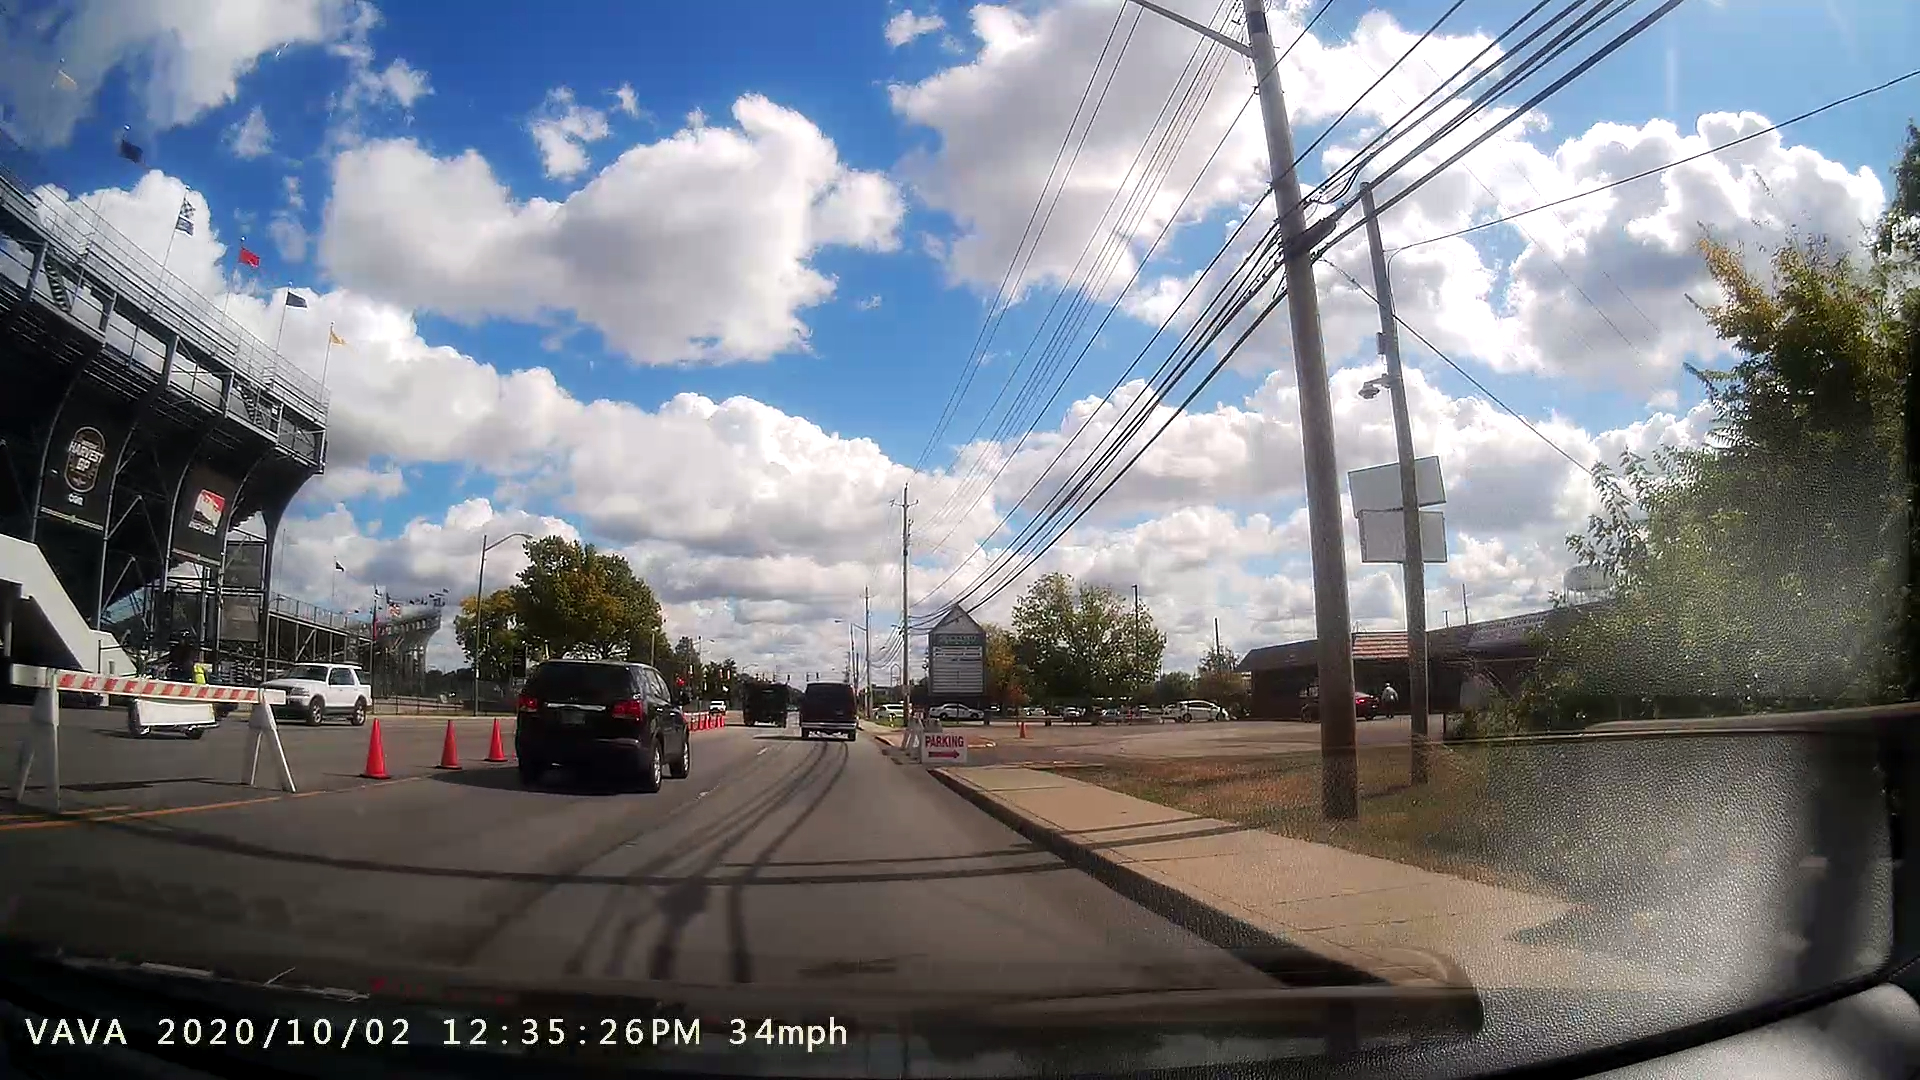const_barricade: (3, 654, 301, 804)
const_cone: (353, 713, 398, 789), (430, 716, 462, 778), (481, 716, 513, 766)
